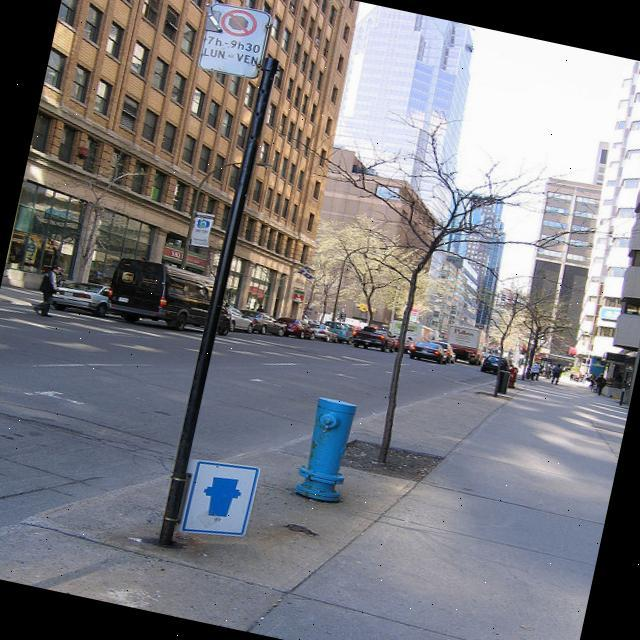fire_hydrant: (292, 394, 359, 504), (508, 366, 518, 388)
